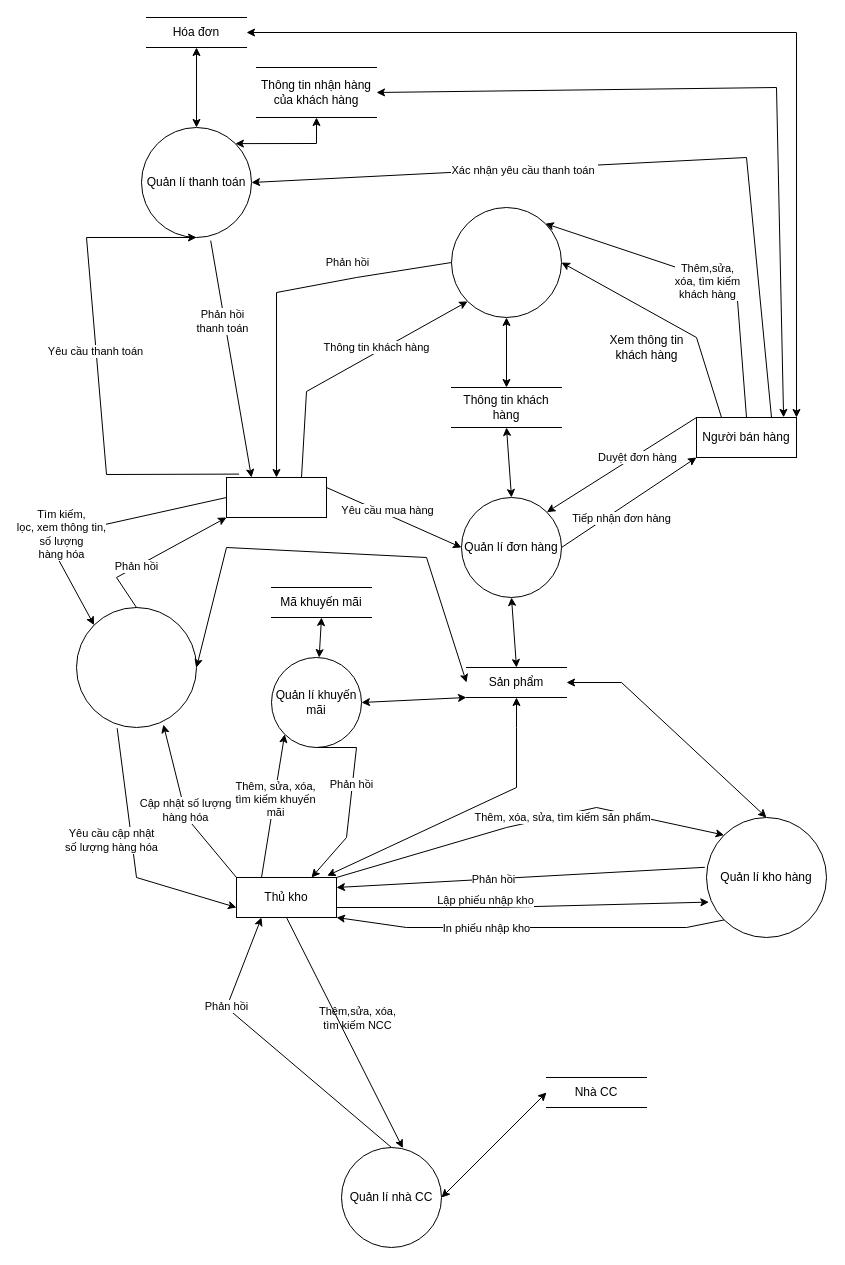
Image size: 845x1265. Some labels were removed from this diagram. Each missing label, with the box of its shape:
Khách hàng: (226, 476, 326, 518)
Quản lí hàng hóa: (76, 606, 196, 728)
Quản lí khách hàng: (450, 206, 562, 318)
